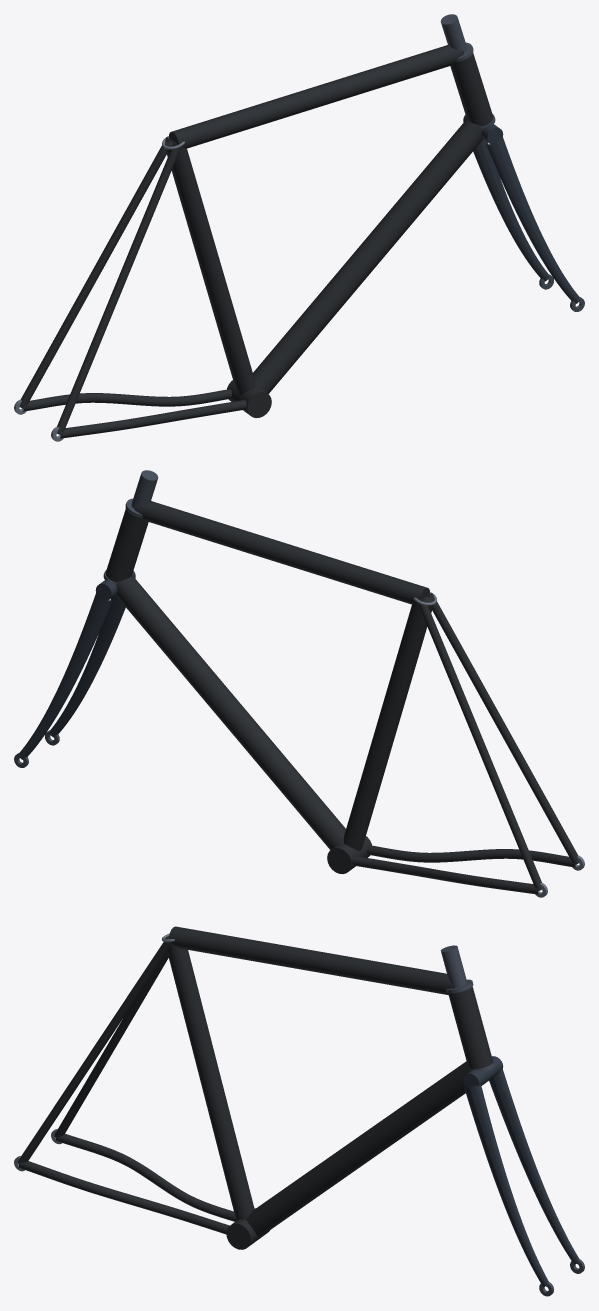
The model's file is 8bar-krzberg-v8-m.glb.
The picture shows the model from 3 angles, top to bottom: view 1: azimuth 30°, elevation 25°; view 2: azimuth 150°, elevation 25°; view 3: azimuth 330°, elevation 25°; orthographic projection.
Parts seen in each view (by area): view 1: paint_down, paint_top, paint_seat, paint_seatstay_1, paint_seatstay_-1, fork_blade_1, paint_chainstay_-1, fork_blade_-1, paint_chainstay_1, paint_head, paint_bottom_bracket, fork_steerer; view 2: paint_down, paint_top, paint_seat, paint_seatstay_-1, paint_seatstay_1, fork_blade_-1, paint_chainstay_1, fork_blade_1, paint_chainstay_-1, paint_head, paint_bottom_bracket, fork_steerer; view 3: paint_down, paint_top, paint_seat, fork_blade_1, fork_blade_-1, paint_seatstay_1, paint_chainstay_1, paint_head, paint_chainstay_-1, paint_seatstay_-1, fork_steerer, paint_bottom_bracket (+1 smaller).
Boxes of the visible parts, x1,y1,x2,y2 form: paint_down: [253, 119, 483, 393]; paint_top: [169, 45, 464, 148]; paint_seat: [165, 140, 255, 394]; paint_seatstay_1: [56, 143, 181, 434]; paint_seatstay_-1: [19, 137, 171, 408]; fork_blade_1: [486, 136, 580, 303]; paint_chainstay_-1: [22, 389, 231, 411]; fork_blade_-1: [473, 139, 549, 281]; paint_chainstay_1: [60, 400, 246, 438]; paint_head: [450, 53, 493, 125]; paint_bottom_bracket: [227, 380, 271, 417]; fork_steerer: [440, 14, 467, 52]; paint_down: [115, 575, 345, 849]; paint_top: [134, 501, 429, 604]; paint_seat: [343, 596, 433, 850]; paint_seatstay_-1: [417, 599, 542, 890]; paint_seatstay_1: [427, 593, 579, 864]; fork_blade_-1: [18, 592, 112, 759]; paint_chainstay_1: [367, 845, 576, 867]; fork_blade_1: [49, 595, 125, 737]; paint_chainstay_-1: [352, 856, 538, 894]; paint_head: [105, 509, 148, 581]; paint_bottom_bracket: [327, 836, 371, 873]; fork_steerer: [131, 470, 158, 508]; paint_down: [246, 1061, 471, 1236]; paint_top: [169, 926, 454, 994]; paint_seat: [165, 936, 254, 1220]; fork_blade_1: [464, 1084, 548, 1286]; fork_blade_-1: [489, 1068, 579, 1264]; paint_seatstay_1: [17, 936, 171, 1164]; paint_chainstay_1: [19, 1161, 229, 1234]; paint_head: [448, 986, 492, 1069]; paint_chainstay_-1: [56, 1133, 236, 1221]; paint_seatstay_-1: [54, 952, 168, 1137]; fork_steerer: [440, 945, 489, 1070]; paint_bottom_bracket: [226, 1208, 269, 1249].
Bounding box in the file's own units: 1 × 0.6163 × 0.1401.
